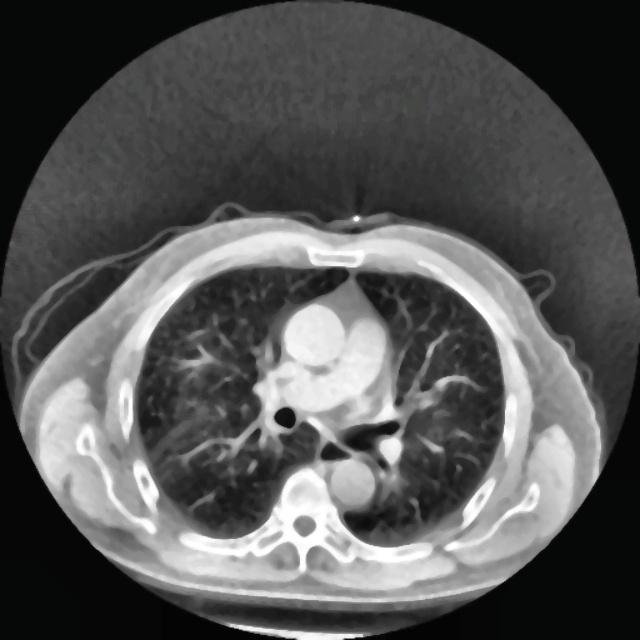covid: (10, 202, 607, 637)
